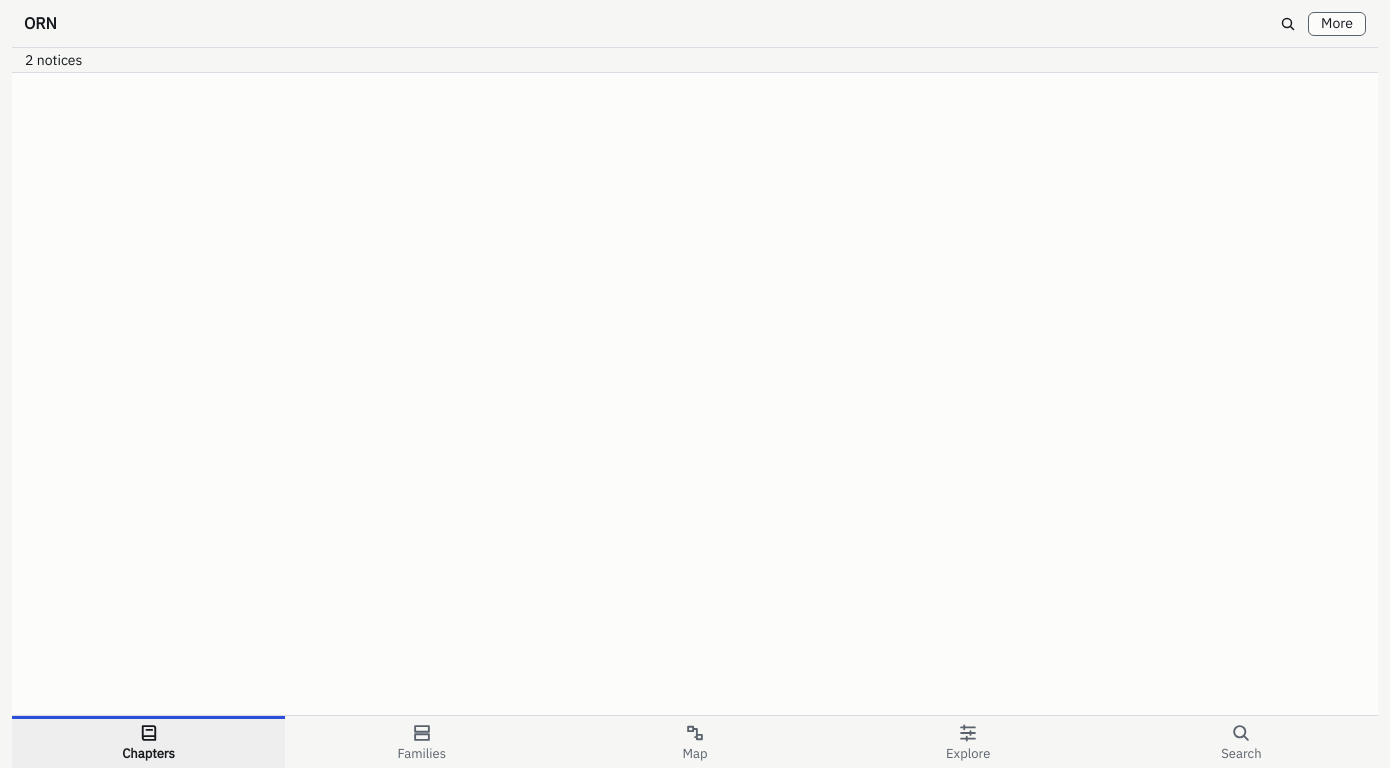
Test: toasts on a phone › the result of an action joins the folded notices line and is announced; nothing floats over the cards
The width and height of the screenshot is (1390, 768).
Click the button named "notices?" at [54, 60], box [12, 48, 1378, 72]
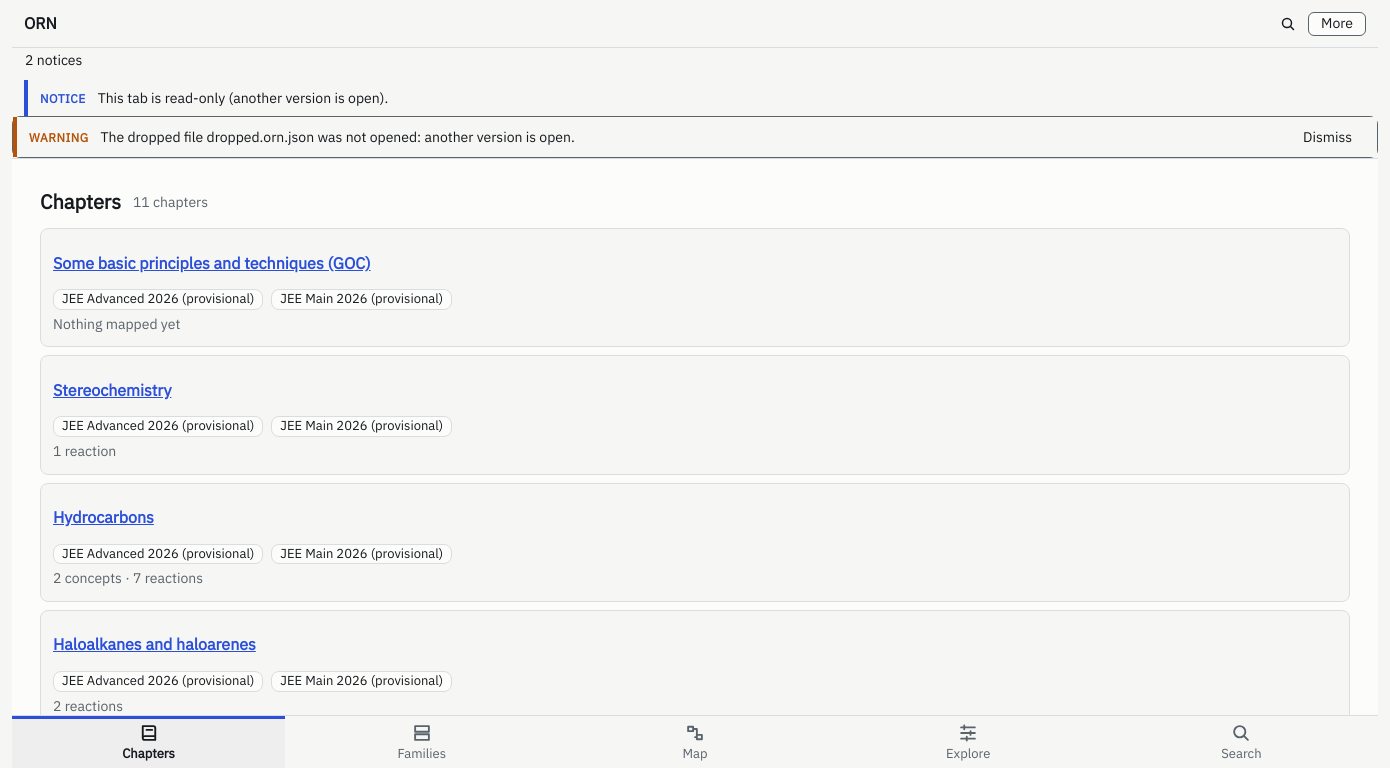
Check: the button "Dismiss" is shown, box [1290, 125, 1365, 149]
